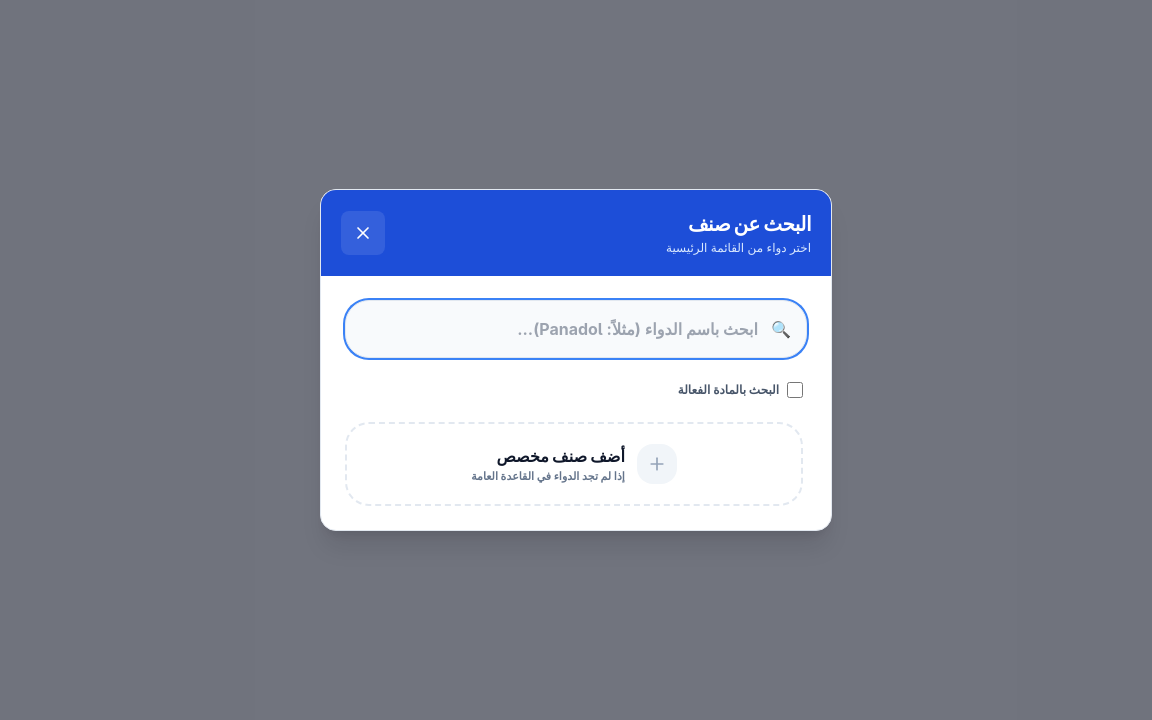
Test case: inventory modal async/error behavior › recovers add-inventory search after a thrown request instead of leaving the spinner stuck
Type "broken" into the field with placeholder "ابحث باسم الدواء (مثلاً: Panadol)...". click: (576, 329)
box: [345,300,807,358]
Wait 300 ms
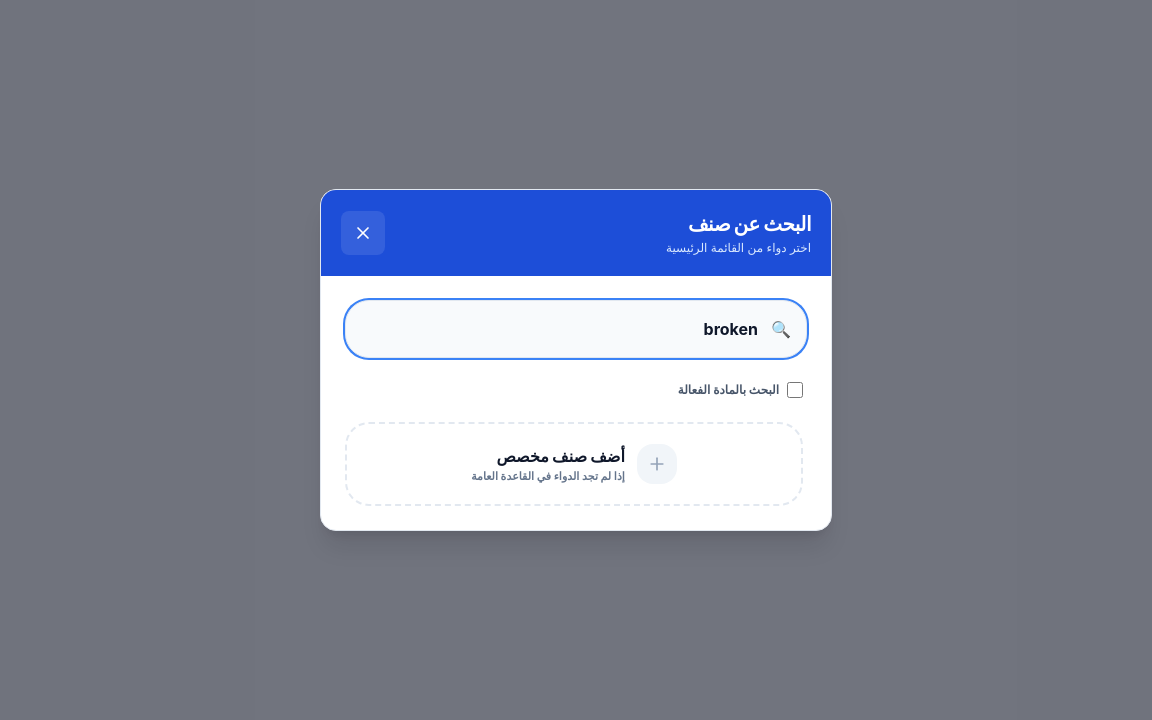
Replace the text in the field with placeholder "ابحث باسم الدواء (مثلاً: Panadol)..." with "recovered". click: (576, 329)
box: [345,300,807,358]
Wait 300 ms
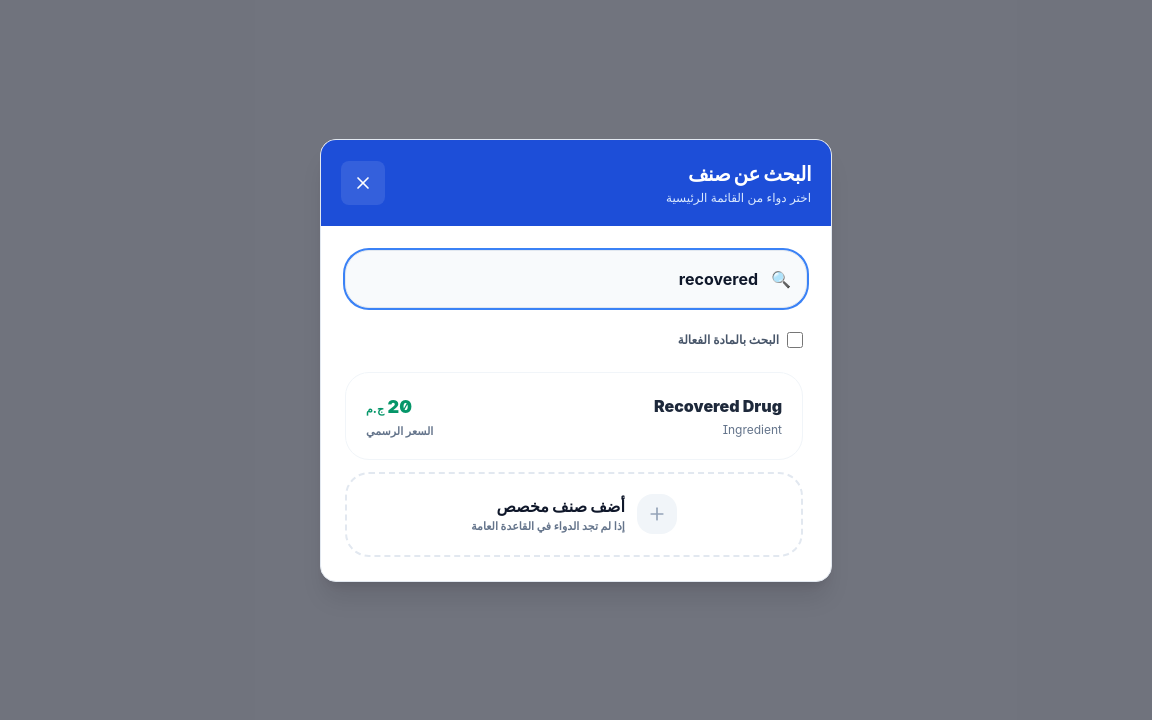
Expected: the text "Recovered Drug" is shown, [654,394,782,418]
